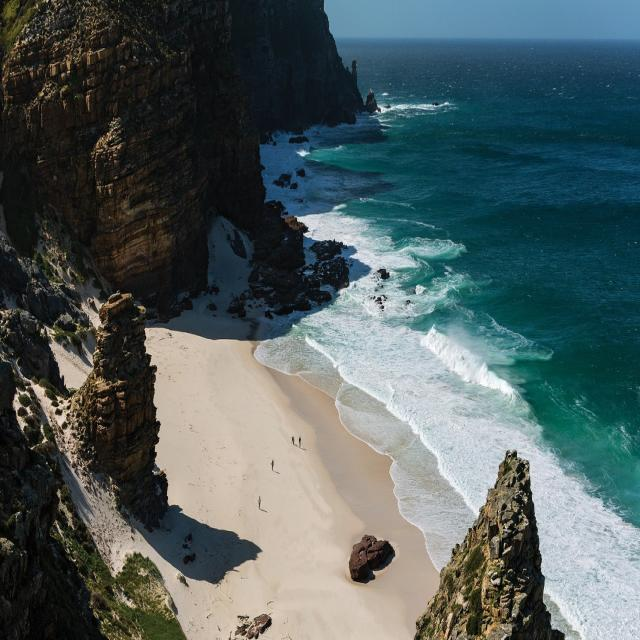body: (258, 494, 262, 510), (271, 458, 274, 472), (299, 434, 301, 448), (291, 435, 294, 444), (292, 435, 294, 445)
